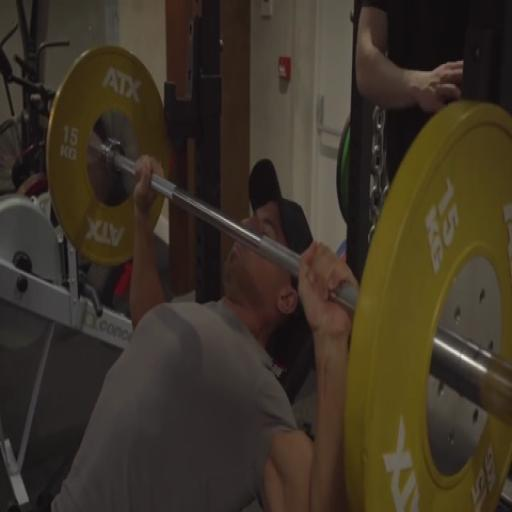exercise: (46, 154, 358, 510)
